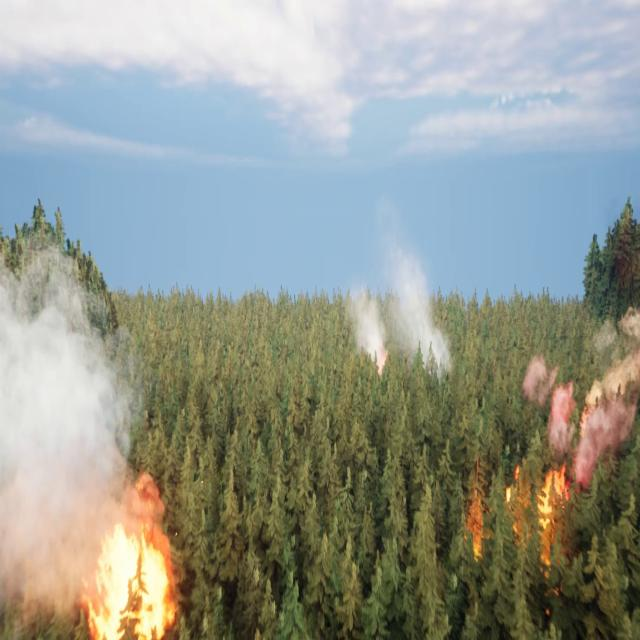fire: (80, 507, 182, 639), (467, 464, 568, 570)
smoke: (0, 229, 143, 627), (330, 217, 462, 383), (524, 296, 640, 484)
